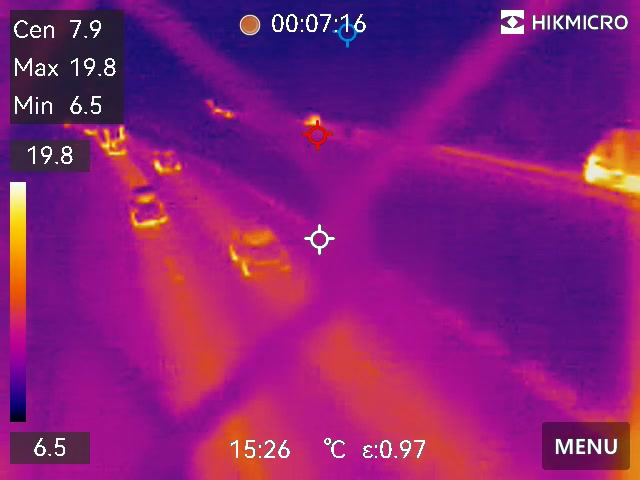heavyTruck: (580, 127, 640, 191)
vehicle: (227, 228, 295, 280), (124, 186, 169, 228), (150, 147, 183, 173)
